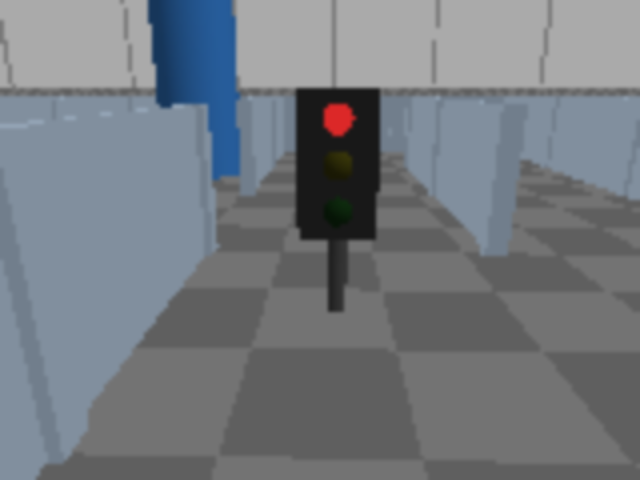traffic_light: (296, 74, 383, 324)
